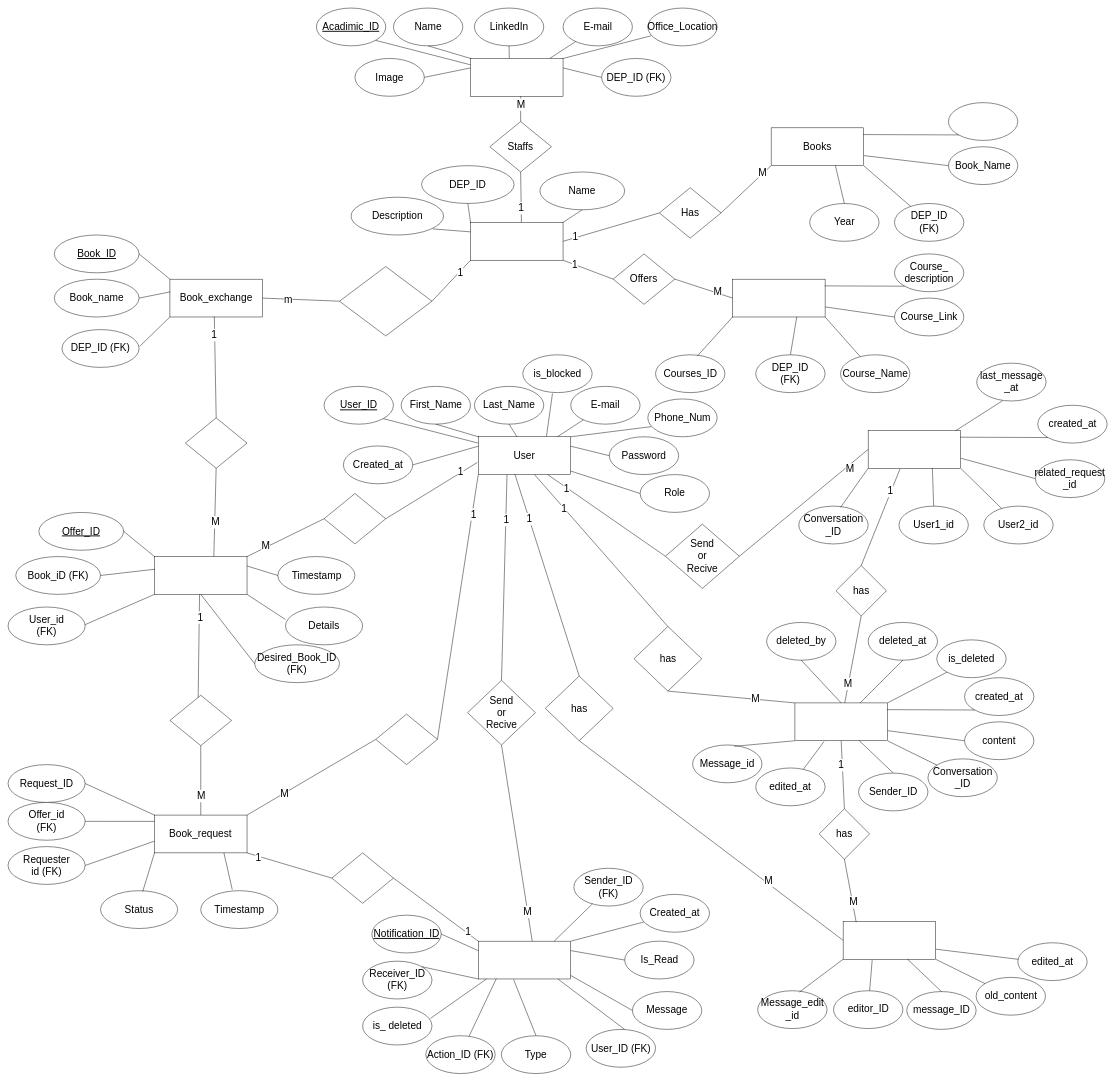
Some shapes in this 1116 by 1082 pixel diagram are drawn without their labels. The centre of each missing label's shape, as x and y in pixels:
"Academic_Staff" goes at [516,77].
"Book_Material" goes at [983,121].
"Book_offer" goes at [200,575].
"Conversations" goes at [914,449].
"Courses" goes at [778,298].
"Departments" goes at [516,241].
"Has book offers" goes at [216,442].
"Is mady by" goes at [406,739].
"Makes" goes at [355,518].
"Message Edits" goes at [889,940].
"Messages" goes at [840,721].
"Notifications" goes at [524,960].
"provides exchange books" goes at [385,301].
"Receive" goes at [200,720].
"Triggers" goes at [362,877].
